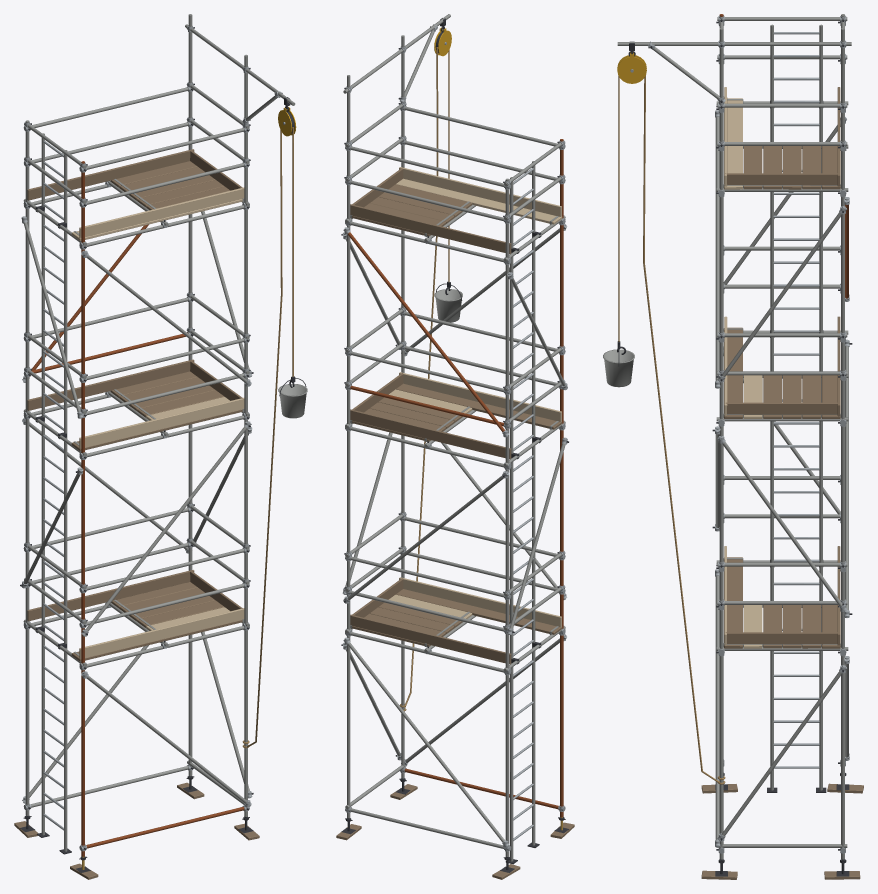
Rendered from deco_scaffold_tower.fbx.
3 renders of one model, left to right at view 1: azimuth 30°, elevation 25°; view 2: azimuth 150°, elevation 25°; view 3: azimuth 270°, elevation 25°, orthographic. The views are drawn at different scales.
Parts seen in each view (by area): view 1: Scaffold_Tower_Tubes, Scaffold_Tower_Deck, Scaffold_Tower_Ladder, Scaffold_Tower_Clamps, Scaffold_Tower_Rope, Scaffold_Tower_Hoist, Scaffold_Tower_BasePlates; view 2: Scaffold_Tower_Tubes, Scaffold_Tower_Deck, Scaffold_Tower_Ladder, Scaffold_Tower_Clamps, Scaffold_Tower_Rope, Scaffold_Tower_Hoist, Scaffold_Tower_BasePlates; view 3: Scaffold_Tower_Tubes, Scaffold_Tower_Deck, Scaffold_Tower_Ladder, Scaffold_Tower_Clamps, Scaffold_Tower_Rope, Scaffold_Tower_Hoist, Scaffold_Tower_BasePlates.
Boxes of the visible parts, x1,y1,x2,y2 form: Scaffold_Tower_Tubes: (23,14,295,856); Scaffold_Tower_Deck: (27,149,244,661); Scaffold_Tower_Ladder: (35,133,71,854); Scaffold_Tower_Clamps: (20,25,282,851); Scaffold_Tower_Rope: (242,127,293,748); Scaffold_Tower_Hoist: (278,97,307,418); Scaffold_Tower_BasePlates: (14,776,259,879); Scaffold_Tower_Tubes: (343,14,565,856); Scaffold_Tower_Deck: (350,167,562,664); Scaffold_Tower_Ladder: (505,161,541,864); Scaffold_Tower_Clamps: (341,24,568,851); Scaffold_Tower_Rope: (399,47,449,711); Scaffold_Tower_Hoist: (434,18,462,322); Scaffold_Tower_BasePlates: (336,778,574,879); Scaffold_Tower_Tubes: (617,14,851,859); Scaffold_Tower_Deck: (723,87,840,648); Scaffold_Tower_Ladder: (767,24,826,792); Scaffold_Tower_Clamps: (648,15,852,853); Scaffold_Tower_Rope: (618,75,725,784); Scaffold_Tower_Hoist: (603,41,646,387); Scaffold_Tower_BasePlates: (701,773,863,879).
Bounding box in the file's own units: 274 × 1108 × 309.
